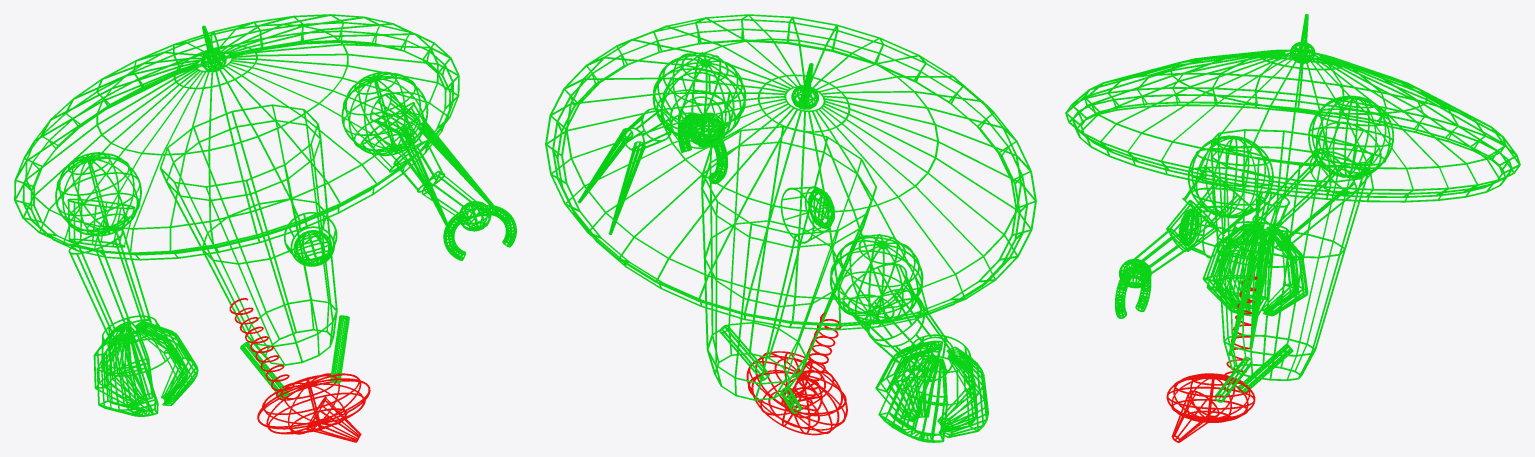
Rendered from construction-droids-highlight-spot-welder.glb.
3 views of the same model, side by side, from view 1: azimuth 30°, elevation 25°; view 2: azimuth 150°, elevation 25°; view 3: azimuth 270°, elevation 25° (orthographic). The views are drawn at different scales.
Parts seen in each view (by area): view 1: chassis technical wire, heavy-manipulator technical wire, spot-welder technical wire, light-manipulator technical wire, laser-solder-tool technical wire, optical-sensor technical wire; view 2: chassis technical wire, heavy-manipulator technical wire, spot-welder technical wire, laser-solder-tool technical wire, optical-sensor technical wire, light-manipulator technical wire; view 3: chassis technical wire, heavy-manipulator technical wire, spot-welder technical wire, laser-solder-tool technical wire, light-manipulator technical wire, optical-sensor technical wire.
Part boxes in pixels (x1=…): chassis technical wire: x1=14, y1=14, x2=459, y2=398; heavy-manipulator technical wire: x1=93, y1=315, x2=198, y2=416; spot-welder technical wire: x1=229, y1=298, x2=370, y2=442; light-manipulator technical wire: x1=421, y1=170, x2=516, y2=260; laser-solder-tool technical wire: x1=370, y1=93, x2=496, y2=225; optical-sensor technical wire: x1=284, y1=212, x2=337, y2=266; chassis technical wire: x1=545, y1=14, x2=1036, y2=413; heavy-manipulator technical wire: x1=875, y1=334, x2=988, y2=442; spot-welder technical wire: x1=746, y1=312, x2=847, y2=435; laser-solder-tool technical wire: x1=577, y1=108, x2=672, y2=234; optical-sensor technical wire: x1=780, y1=186, x2=834, y2=243; light-manipulator technical wire: x1=678, y1=113, x2=727, y2=184; chassis technical wire: x1=1065, y1=14, x2=1520, y2=402; heavy-manipulator technical wire: x1=1202, y1=221, x2=1308, y2=316; spot-welder technical wire: x1=1166, y1=275, x2=1257, y2=442; laser-solder-tool technical wire: x1=1228, y1=191, x2=1289, y2=355; light-manipulator technical wire: x1=1114, y1=228, x2=1186, y2=318; optical-sensor technical wire: x1=1179, y1=206, x2=1225, y2=258.
Size of the model in its own units: 2.64 by 2.31 by 2.47.
